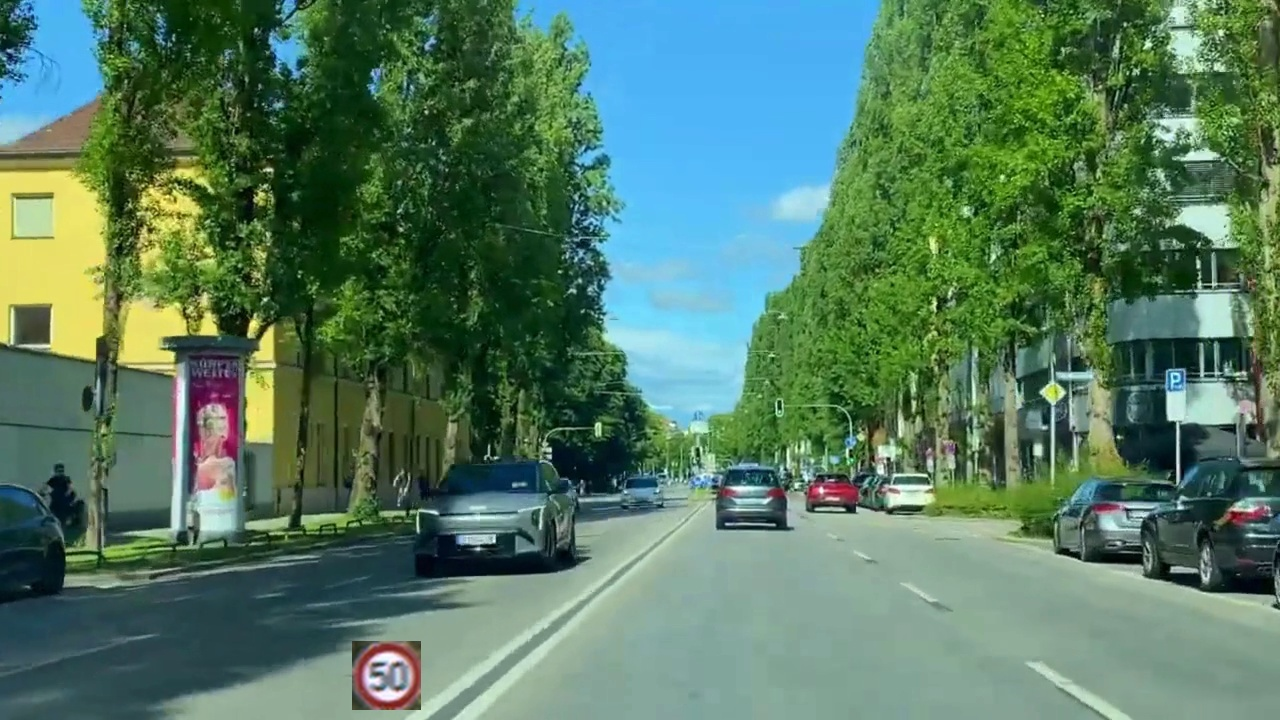Speed 50: (352, 641, 421, 710)
